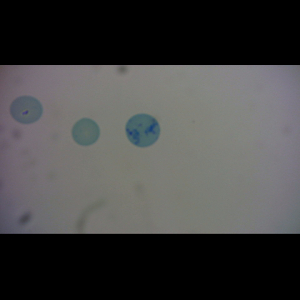aggregate reticulocyte: (124, 112, 162, 148)
erythrocyte: (8, 94, 44, 126), (70, 117, 101, 147)
